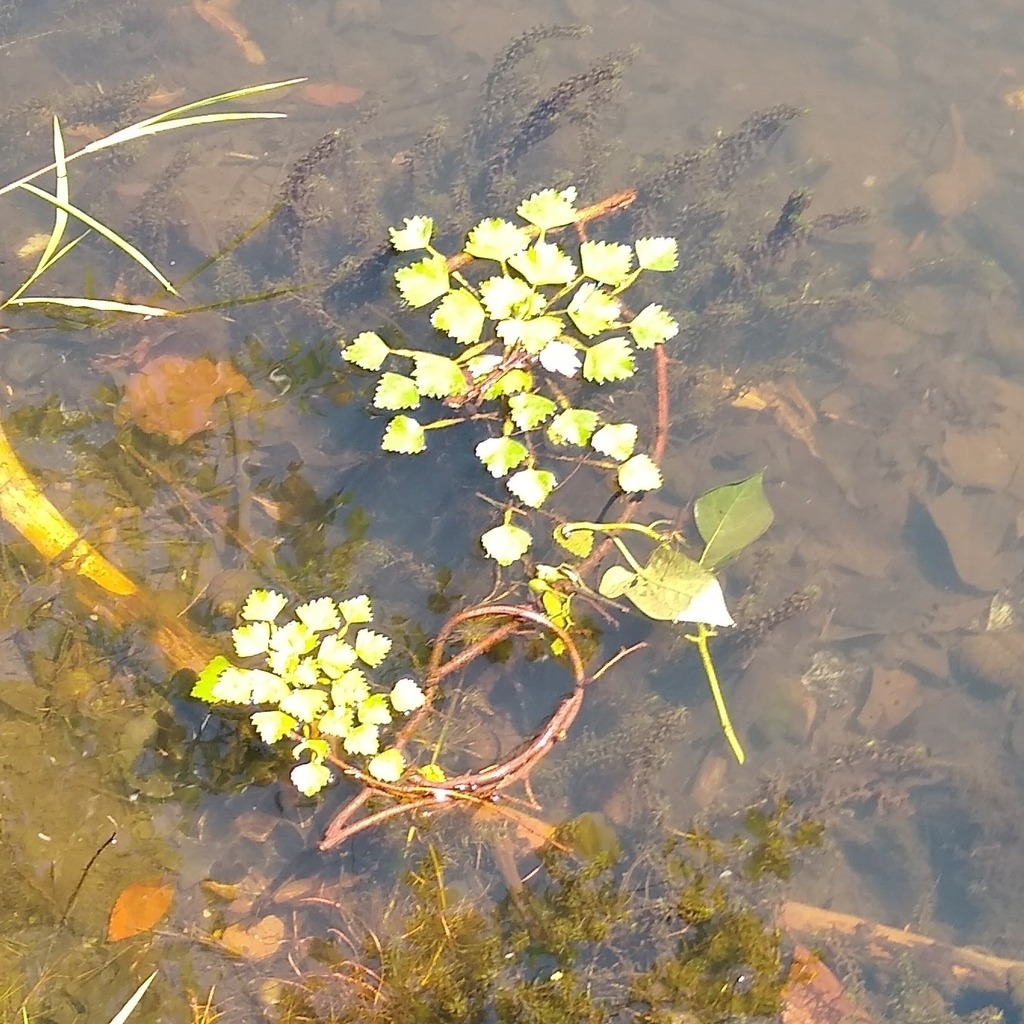water chestnut: (190, 182, 685, 797)
